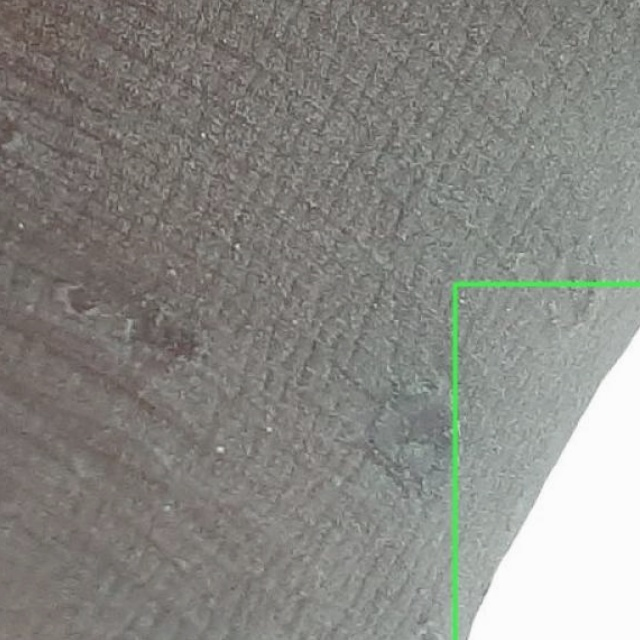Contact Dermatitis: (455, 283, 639, 639)
